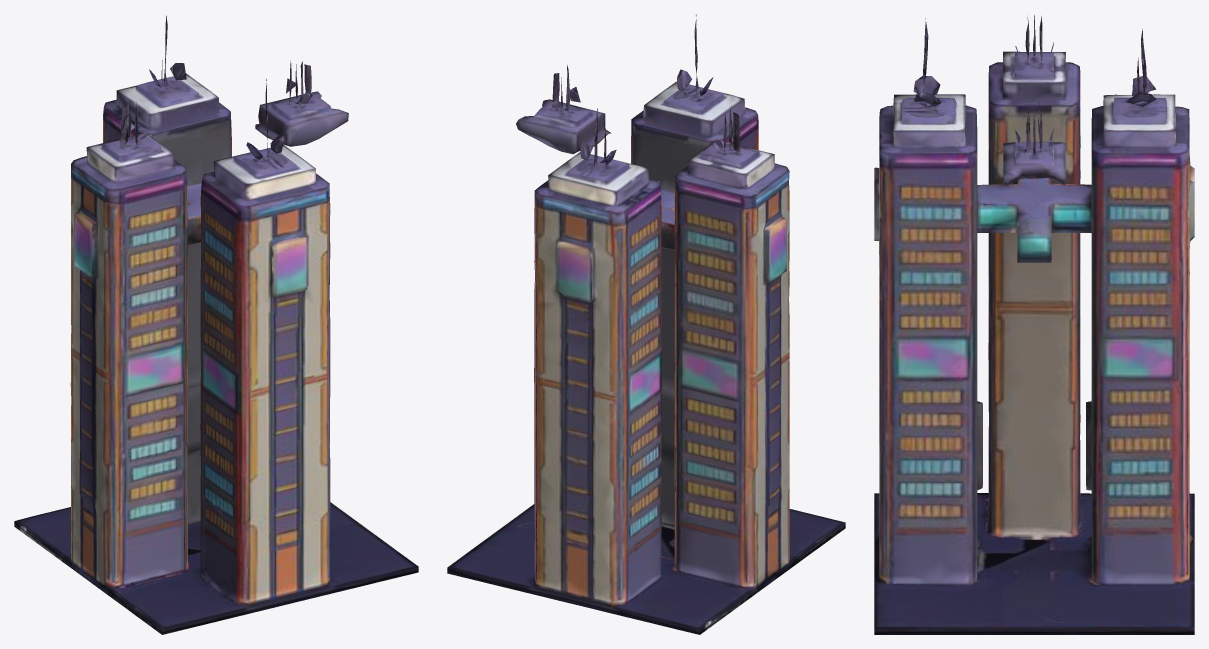
The model's file is tower-04.glb.
3 renders of one model, left to right at view 1: azimuth 30°, elevation 25°; view 2: azimuth 150°, elevation 25°; view 3: azimuth 270°, elevation 25°, orthographic. The views are drawn at different scales.
Parts seen in each view (by area): view 1: model; view 2: model; view 3: model.
Part boxes in pixels (bbox=[...]): model: bbox=[14, 15, 418, 634]; model: bbox=[447, 14, 845, 634]; model: bbox=[874, 15, 1194, 634].
Bounding box in the file's own units: 1.02 × 1.9 × 1.
Materials: 1 (1 with a texture image).
